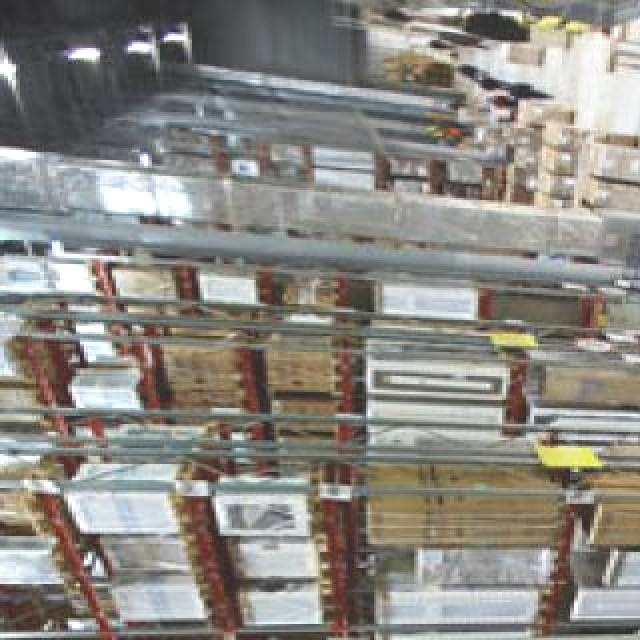fluorescent tube: (147, 20, 204, 58), (116, 25, 165, 67), (59, 42, 97, 65)
